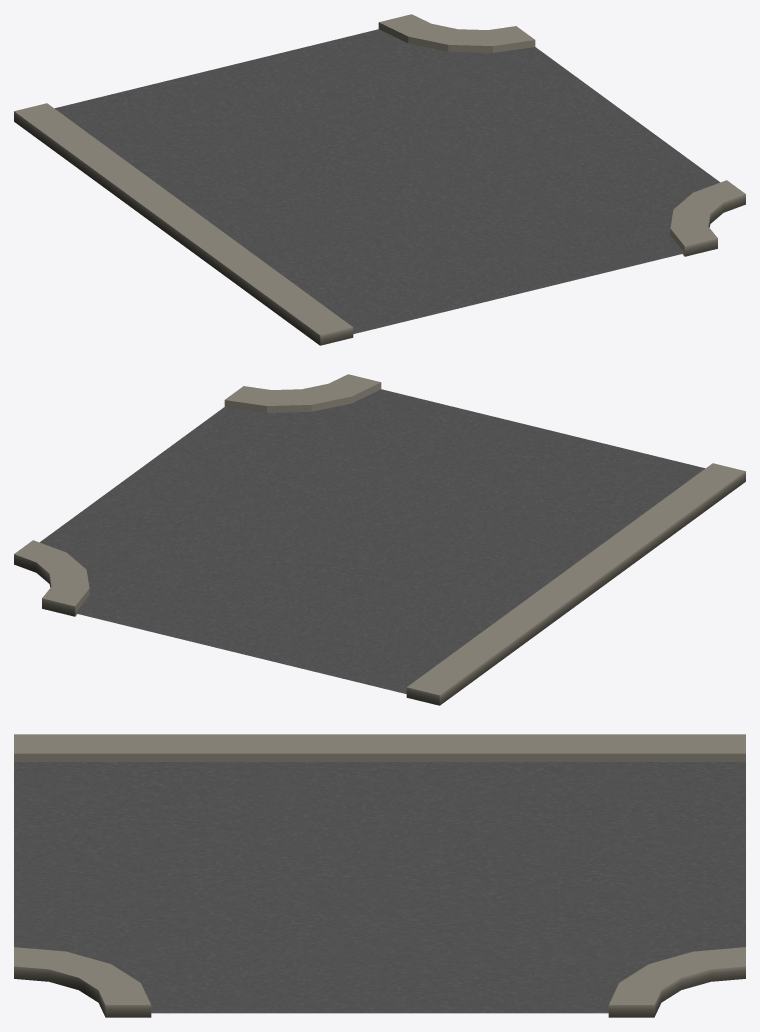
3 renders of one model, top to bottom at view 1: azimuth 30°, elevation 25°; view 2: azimuth 150°, elevation 25°; view 3: azimuth 270°, elevation 25°, orthographic. The views are drawn at different scales.
Parts seen in each view (by area): view 1: Road_1H; view 2: Road_1H; view 3: Road_1H.
Boxes of the visible parts, <box> form: Road_1H: <box>14,14,745,345</box>; Road_1H: <box>14,374,745,705</box>; Road_1H: <box>14,734,745,1017</box>.
Size of the model in its own units: 17440 by 374 by 19932.
